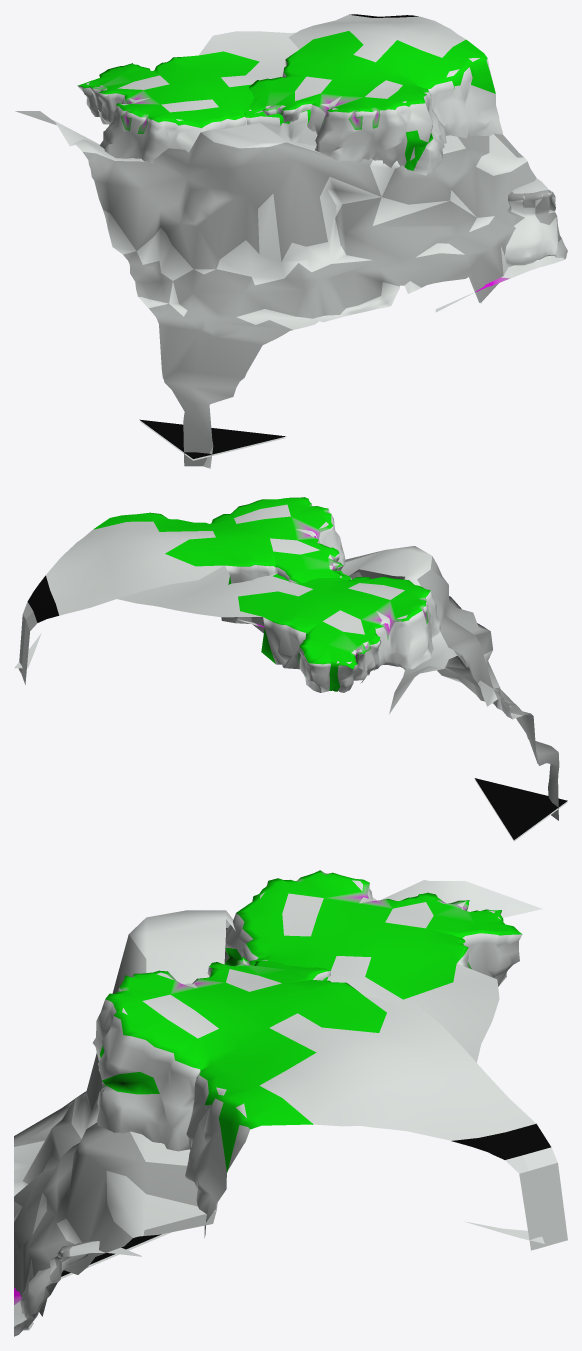
3 renders of one model, top to bottom at view 1: azimuth 30°, elevation 25°; view 2: azimuth 150°, elevation 25°; view 3: azimuth 270°, elevation 25°, orthographic. The views are drawn at different scales.
Visible parts, largest first — view 1: G:\FFXIV-MapTools\exports\f1f1\bg\ffxiv\fst_f1\fld\f1f1\bgpl (×8); view 2: G:\FFXIV-MapTools\exports\f1f1\bg\ffxiv\fst_f1\fld\f1f1\bgpl (×6); view 3: G:\FFXIV-MapTools\exports\f1f1\bg\ffxiv\fst_f1\fld\f1f1\bgpl (×7).
Boxes of the visible parts, box(x1,y1,x2,y2) form: G:\FFXIV-MapTools\exports\f1f1\bg\ffxiv\fst_f1\fld\f1f1\bgpl (×8): box(15, 14, 567, 468); G:\FFXIV-MapTools\exports\f1f1\bg\ffxiv\fst_f1\fld\f1f1\bgpl (×6): box(14, 497, 567, 839); G:\FFXIV-MapTools\exports\f1f1\bg\ffxiv\fst_f1\fld\f1f1\bgpl (×7): box(14, 870, 567, 1336).
Size of the model in its own units: 128 by 93.12 by 111.
